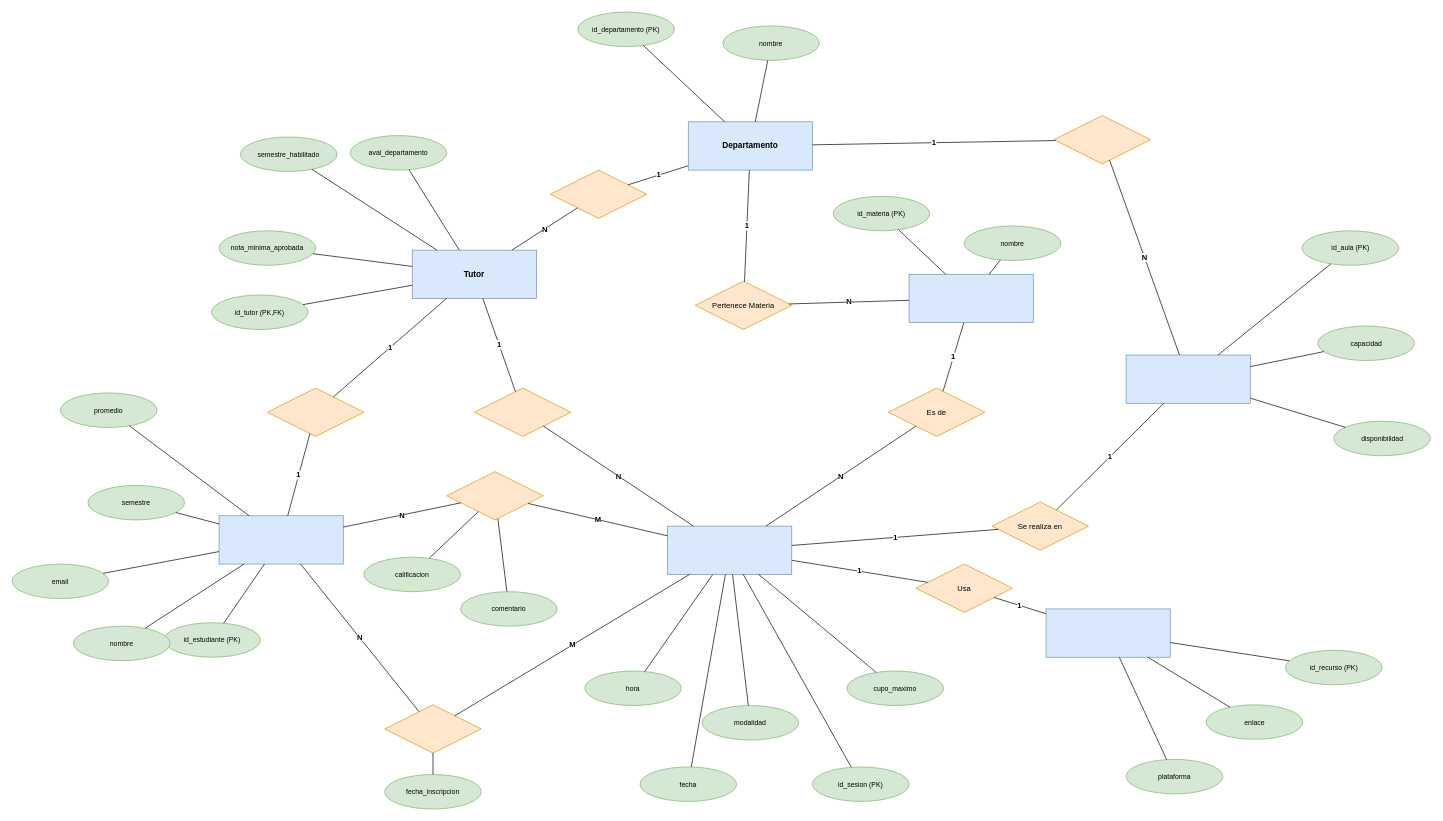
Image size: 1443x821. Some labels were removed from this diagram. The centre of each missing label's shape, as x and y in pixels:
Aula: [1187,378]
Es: [315,411]
Estudiante: [280,539]
Evalua: [494,495]
Imparte: [522,411]
Inscribe: [432,728]
Materia: [970,298]
Pertenece Aula: [1102,139]
Pertenece Tutor: [598,193]
RecursoVirtual: [1107,632]
Sesion: [729,549]
